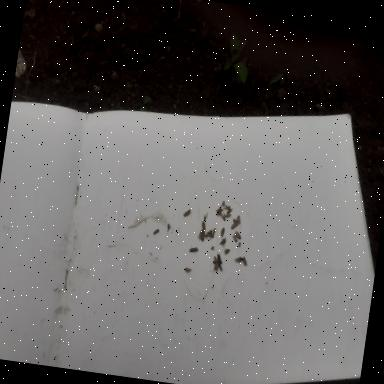pbw: (204, 226, 213, 237), (218, 236, 226, 248), (182, 208, 191, 217), (234, 214, 242, 224), (231, 232, 238, 243), (212, 259, 218, 271), (234, 230, 242, 239), (215, 206, 221, 218), (219, 211, 226, 221), (233, 255, 243, 262), (241, 256, 248, 266), (200, 220, 206, 231), (216, 262, 224, 270), (216, 252, 222, 262), (197, 228, 203, 238), (188, 246, 198, 252), (222, 248, 230, 255), (206, 232, 214, 239), (230, 222, 237, 230), (220, 226, 225, 237), (200, 230, 205, 241), (224, 211, 231, 218), (226, 207, 233, 214), (232, 218, 240, 224), (214, 208, 222, 214), (184, 266, 192, 272), (222, 204, 230, 210), (220, 200, 225, 207), (212, 226, 216, 234)
